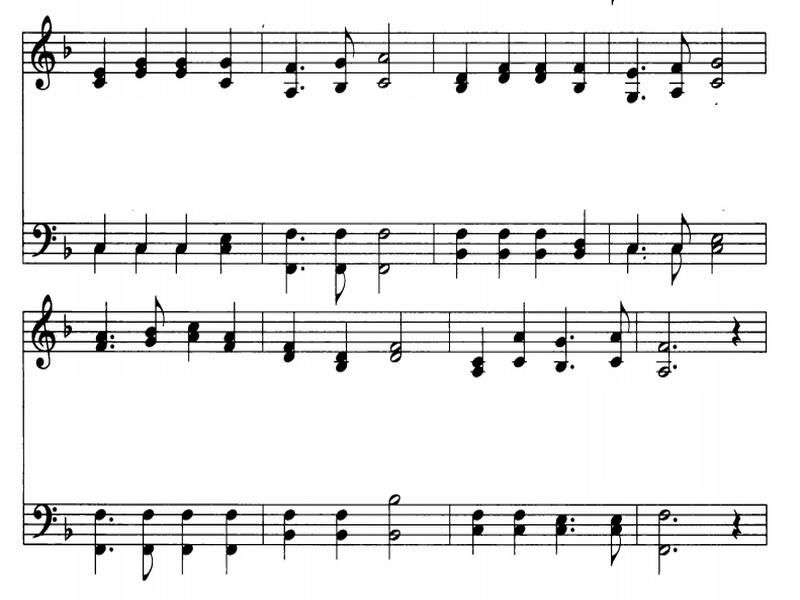B: (377, 309, 413, 377), (374, 11, 402, 94), (372, 220, 400, 301), (382, 488, 407, 561), (703, 24, 730, 91), (705, 231, 732, 272)
Bem: (57, 312, 74, 345), (59, 234, 77, 264), (56, 30, 71, 63), (59, 517, 77, 542)
C: (329, 12, 366, 98), (325, 217, 350, 302), (606, 301, 636, 370), (672, 28, 699, 103), (138, 291, 171, 349), (137, 505, 158, 580), (667, 210, 697, 257), (605, 513, 630, 567), (662, 241, 689, 287)
CF: (25, 496, 58, 550), (26, 217, 58, 265)
CS: (22, 290, 58, 375), (30, 7, 58, 98)
N: (211, 19, 250, 86), (219, 495, 246, 575), (324, 317, 360, 374), (567, 24, 595, 96), (82, 499, 107, 577), (464, 320, 494, 380), (130, 17, 157, 80), (566, 203, 598, 256), (508, 300, 532, 370), (526, 214, 551, 279), (493, 24, 519, 86), (177, 498, 199, 571), (329, 504, 356, 561), (279, 498, 305, 557), (621, 25, 639, 106), (553, 304, 572, 380), (527, 20, 548, 86), (507, 502, 532, 556), (280, 224, 299, 294), (544, 504, 570, 555), (453, 34, 474, 97), (220, 303, 244, 358), (279, 311, 303, 366), (283, 28, 302, 97), (214, 233, 242, 276), (173, 27, 196, 77), (89, 296, 107, 357), (467, 502, 486, 559), (90, 211, 114, 256), (129, 235, 154, 277), (491, 224, 507, 284), (167, 243, 195, 276), (91, 28, 106, 89), (623, 209, 643, 253), (136, 203, 154, 251), (176, 205, 194, 252), (184, 320, 204, 361), (453, 231, 469, 273), (87, 242, 108, 274), (620, 243, 639, 275)
P: (297, 262, 312, 280), (639, 89, 651, 107), (297, 83, 313, 96), (564, 514, 582, 524), (568, 361, 581, 373), (106, 545, 121, 555), (108, 334, 121, 345), (671, 363, 681, 375), (108, 344, 121, 352), (106, 514, 116, 524), (566, 527, 580, 534), (299, 63, 307, 74), (671, 547, 682, 555), (642, 63, 651, 72), (671, 516, 681, 524), (301, 235, 309, 244), (671, 344, 678, 354), (570, 334, 577, 343)
SN: (724, 309, 750, 350), (717, 514, 755, 540)
